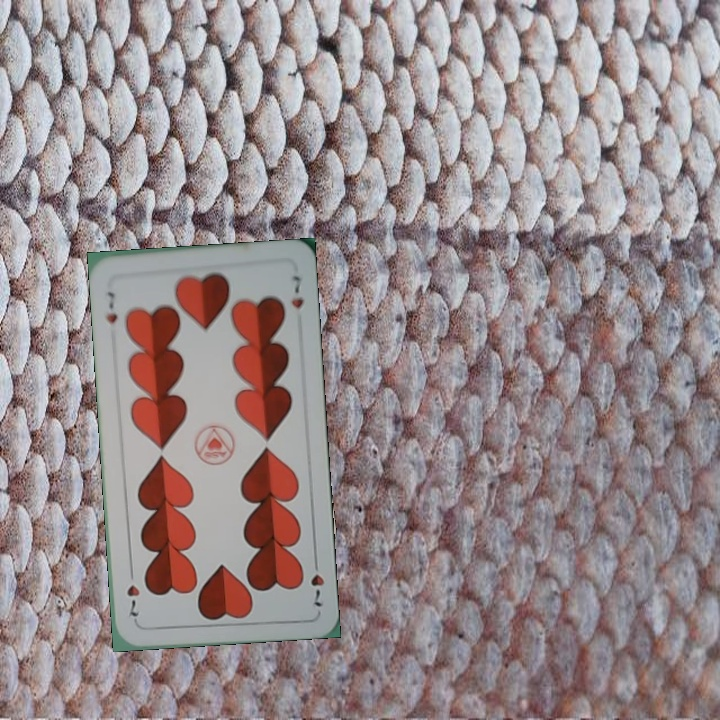H7: (306, 553, 327, 609), (102, 287, 120, 326)
